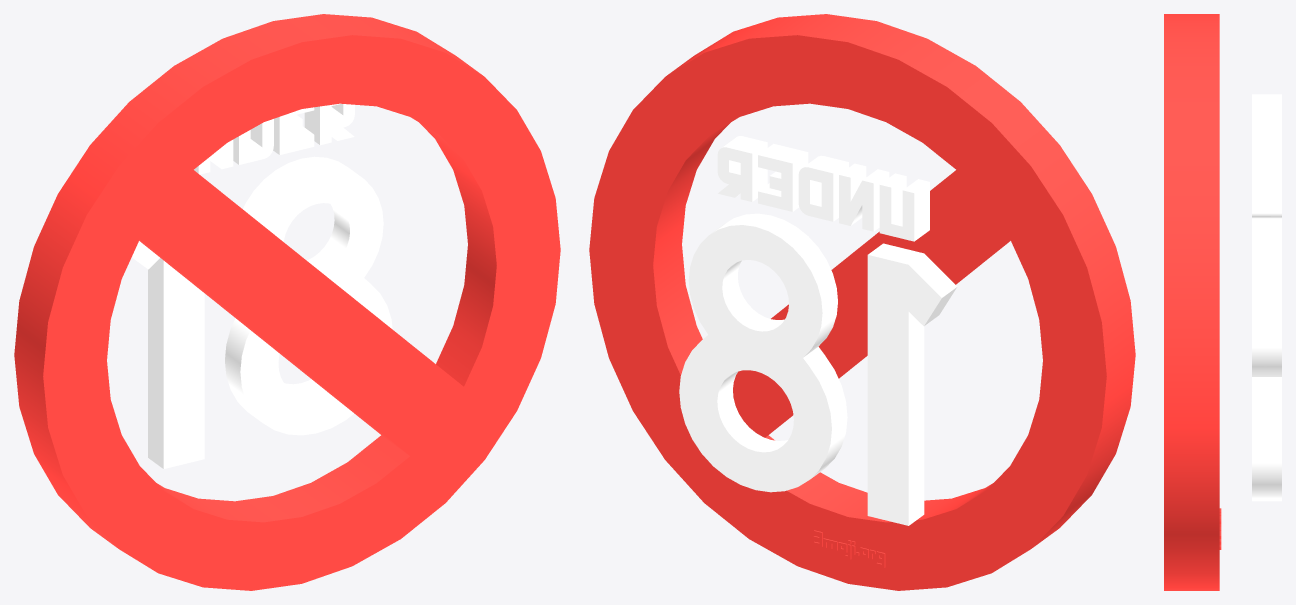
Rendered from no_one_under_eighteen.gltf.
3 renders of one model, left to right at view 1: azimuth 30°, elevation 25°; view 2: azimuth 150°, elevation 25°; view 3: azimuth 270°, elevation 25°, orthographic. The views are drawn at different scales.
Parts seen in each view (by area): view 1: Circle.2627; view 2: Circle.2627; view 3: Circle.2627.
Boxes of the visible parts, bbox=[...] form: Circle.2627: bbox=[14, 14, 560, 590]; Circle.2627: bbox=[589, 14, 1135, 590]; Circle.2627: bbox=[1164, 14, 1281, 590].
Bounding box in the file's own units: 1.92 × 1.92 × 0.3926.
1 material, 1 textured.
